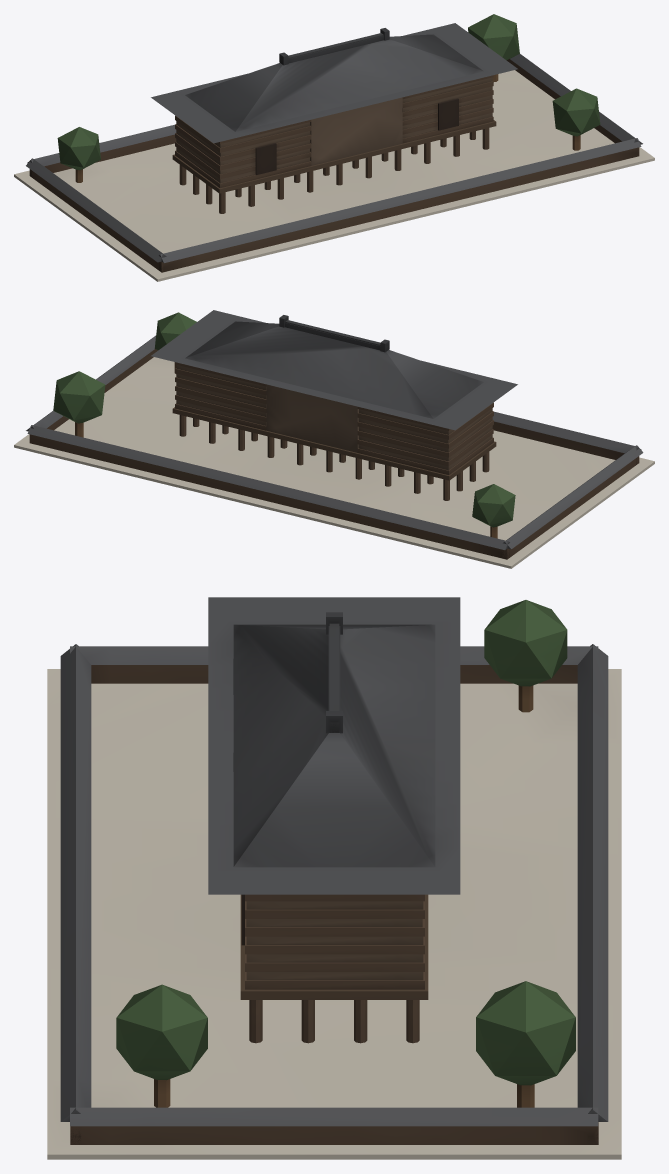
Rendered from shosoin.glb.
3 renders of one model, top to bottom at view 1: azimuth 30°, elevation 25°; view 2: azimuth 150°, elevation 25°; view 3: azimuth 270°, elevation 25°, orthographic. The views are drawn at different scales.
Parts seen in each view (by area): view 1: p0_grounds, p2_roof, p1_storehouse; view 2: p0_grounds, p2_roof, p1_storehouse; view 3: p0_grounds, p2_roof, p1_storehouse.
Boxes of the visible parts, x1,y1,x2,y2 form: p0_grounds: [14, 54, 654, 281]; p2_roof: [57, 14, 600, 182]; p1_storehouse: [172, 75, 496, 213]; p0_grounds: [14, 335, 654, 568]; p2_roof: [53, 310, 517, 538]; p1_storehouse: [172, 362, 496, 500]; p0_grounds: [47, 644, 621, 1159]; p2_roof: [116, 597, 575, 1107]; p1_storehouse: [240, 894, 428, 1043].
Size of the model in its own units: 60 by 14.6 by 30.
